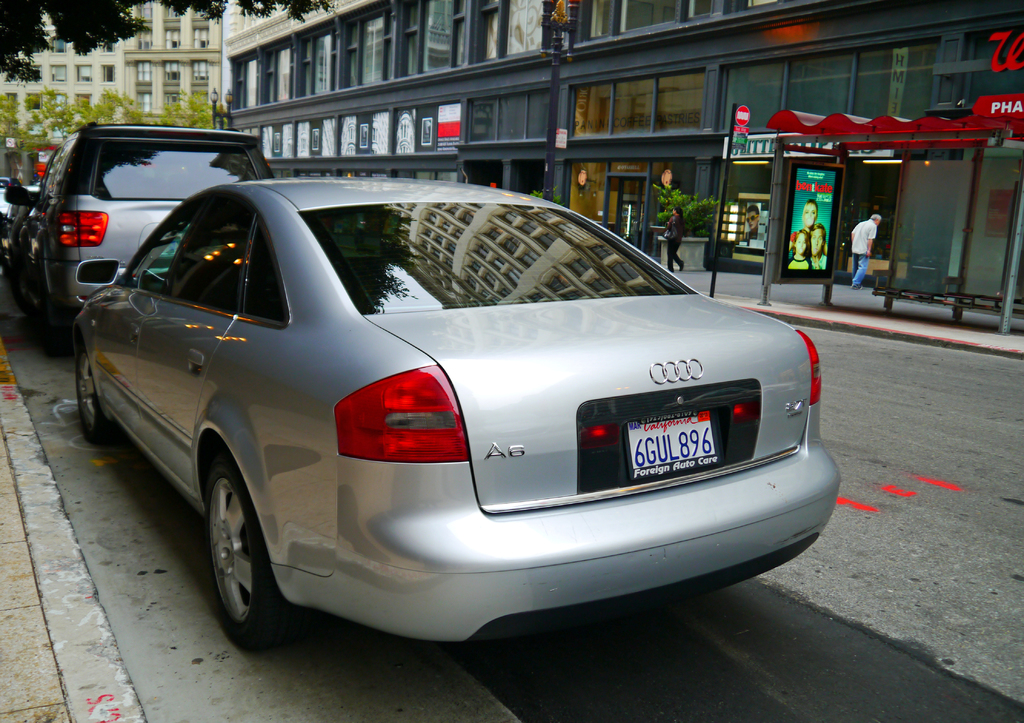license plate: (623, 429, 716, 478)
